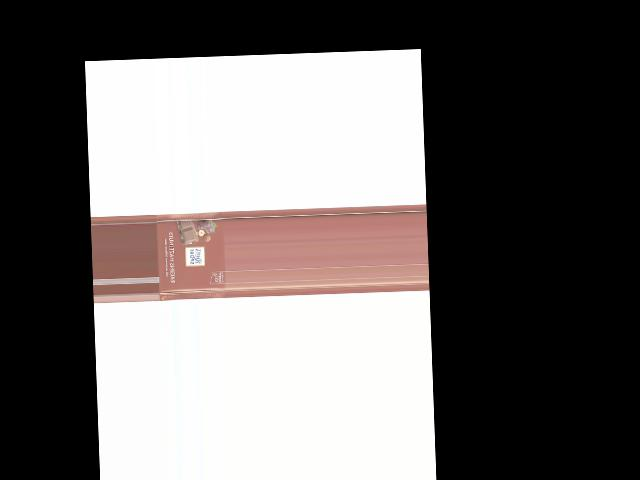chocolate: (155, 210, 226, 300)
